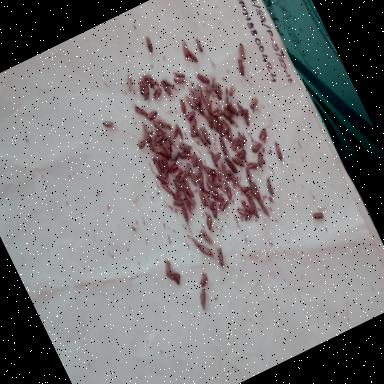pbw: (190, 166, 214, 195), (194, 220, 216, 249), (234, 200, 256, 228), (212, 243, 234, 271), (230, 54, 252, 82), (144, 134, 166, 160), (167, 118, 189, 144), (193, 287, 214, 314), (196, 121, 216, 148), (205, 70, 226, 95), (219, 178, 239, 204), (158, 254, 178, 280), (261, 173, 281, 199), (132, 99, 152, 125), (209, 80, 229, 106), (214, 133, 233, 160), (176, 202, 196, 227), (217, 163, 236, 189), (220, 103, 239, 129), (98, 111, 119, 134), (248, 179, 268, 203), (154, 168, 174, 192), (120, 70, 140, 94), (270, 139, 288, 165), (205, 146, 223, 172), (148, 152, 166, 178), (187, 83, 205, 109), (234, 129, 254, 152), (186, 231, 206, 254), (252, 149, 272, 172), (170, 173, 190, 196), (194, 266, 213, 290), (190, 82, 209, 106), (234, 154, 254, 176), (155, 148, 174, 171), (256, 196, 274, 220), (224, 95, 242, 119), (181, 180, 199, 204), (222, 153, 240, 177), (168, 64, 188, 85), (200, 94, 217, 118), (227, 166, 244, 190), (160, 72, 178, 94), (206, 200, 224, 222), (191, 34, 209, 56), (194, 66, 212, 88), (232, 40, 250, 62), (133, 76, 151, 98), (180, 194, 198, 216), (194, 187, 211, 210), (246, 196, 262, 220), (248, 136, 267, 156), (243, 92, 262, 112), (226, 136, 246, 155), (222, 124, 240, 145), (208, 185, 226, 206), (164, 128, 182, 149), (185, 47, 202, 69), (238, 195, 255, 217), (137, 124, 154, 146), (193, 130, 210, 152), (184, 166, 201, 188), (240, 164, 257, 186), (200, 190, 216, 213), (150, 85, 168, 105), (150, 118, 168, 138), (202, 182, 220, 202), (142, 104, 160, 124), (186, 148, 204, 168), (254, 124, 272, 144), (176, 146, 194, 166), (142, 70, 160, 90), (174, 95, 191, 116), (160, 179, 177, 200), (202, 160, 219, 181), (236, 100, 254, 119), (165, 158, 184, 176), (208, 173, 225, 193), (184, 189, 200, 210), (158, 76, 173, 98), (210, 104, 228, 122), (133, 134, 150, 153), (200, 211, 216, 231), (197, 106, 213, 126), (160, 140, 175, 161), (184, 90, 198, 112), (243, 156, 260, 174), (198, 242, 214, 261), (158, 115, 174, 134), (150, 131, 168, 147), (170, 194, 188, 210), (138, 66, 154, 84), (192, 154, 208, 172), (170, 146, 186, 164), (168, 270, 184, 288), (224, 81, 240, 99), (180, 107, 198, 123), (238, 180, 256, 196), (172, 72, 188, 89), (170, 165, 186, 182), (215, 198, 232, 214), (170, 187, 186, 204), (201, 83, 217, 100), (240, 111, 255, 129), (202, 114, 216, 133), (211, 118, 227, 134), (230, 154, 246, 170), (241, 186, 257, 202), (187, 125, 202, 142), (176, 140, 194, 154), (310, 208, 326, 223), (234, 146, 250, 160), (139, 86, 153, 102), (186, 116, 200, 132), (218, 124, 232, 140), (180, 162, 194, 178), (210, 148, 224, 164)
